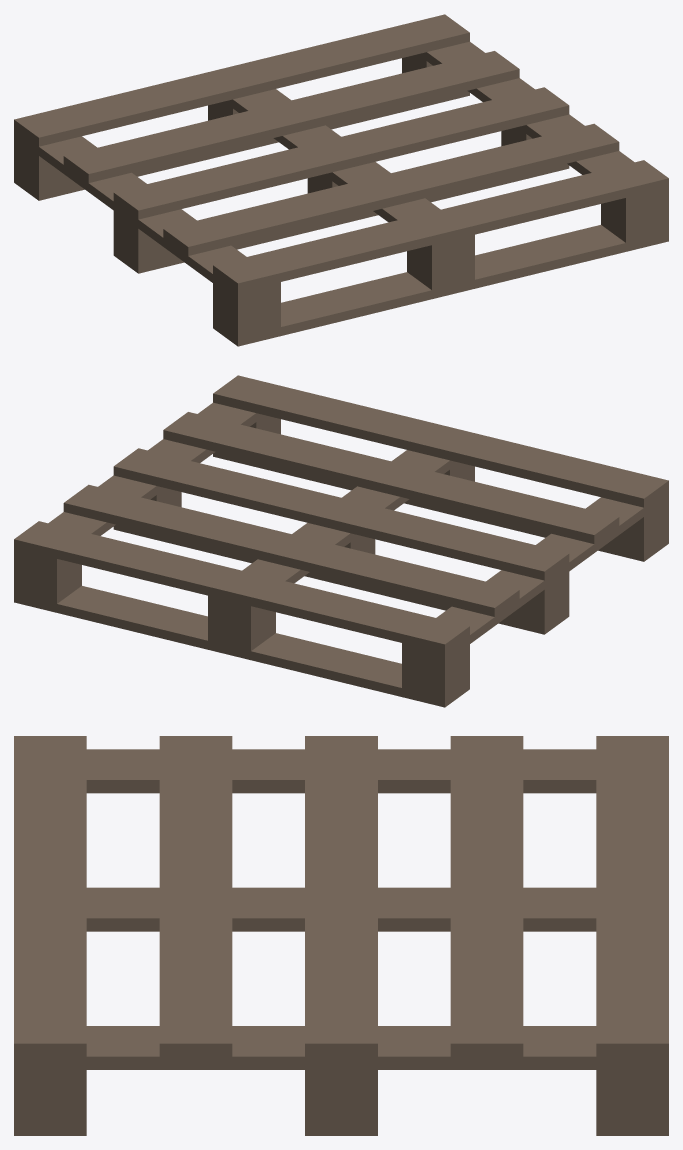
Rendered from underbox.glb.
3 views of the same model, one above another, from view 1: azimuth 30°, elevation 25°; view 2: azimuth 150°, elevation 25°; view 3: azimuth 270°, elevation 25° (orthographic). The views are drawn at different scales.
Visible parts, largest first — view 1: Cube.009; view 2: Cube.009; view 3: Cube.009.
Part boxes in pixels (left/top/right/bottom): Cube.009: left=14, top=14, right=668, bottom=346; Cube.009: left=14, top=375, right=668, bottom=707; Cube.009: left=14, top=736, right=668, bottom=1135.
Size of the model in its own units: 10 by 1.4 by 9.
1 material, 1 textured.
